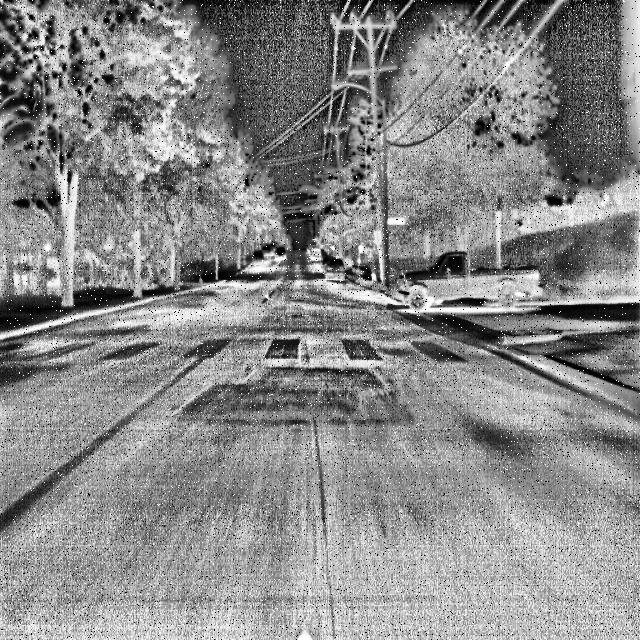car: (394, 238, 559, 335), (318, 253, 366, 302), (260, 230, 288, 270), (306, 239, 331, 274), (253, 240, 272, 274)
